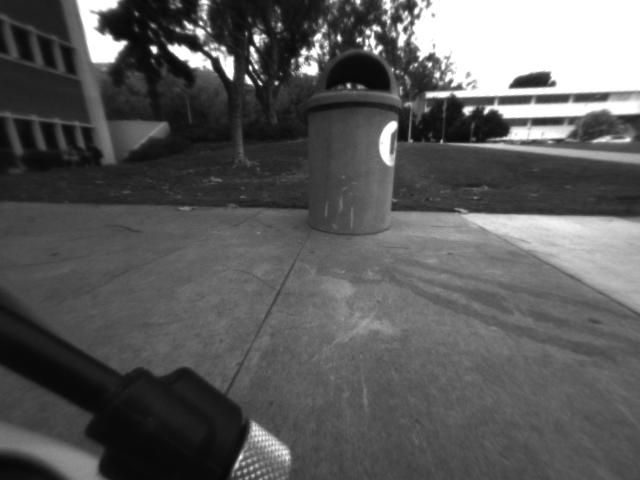trashcan: (304, 49, 401, 236)
